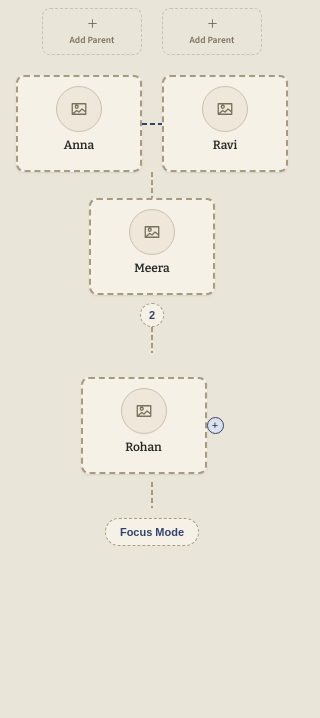
Test: a child's own children stay collapsed behind a toggle until clicked
Expected: the text "Aditi" is not shown
Step 1. Click the button named "Show Rohan’s children" → [215, 426], box [206,417,224,434]
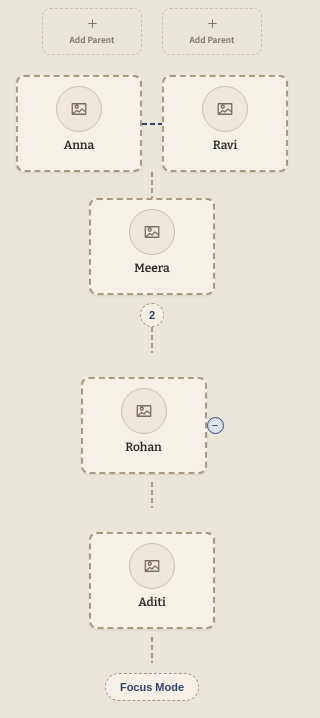
Result: the text "Aditi" is shown at [138,595,166,610]
